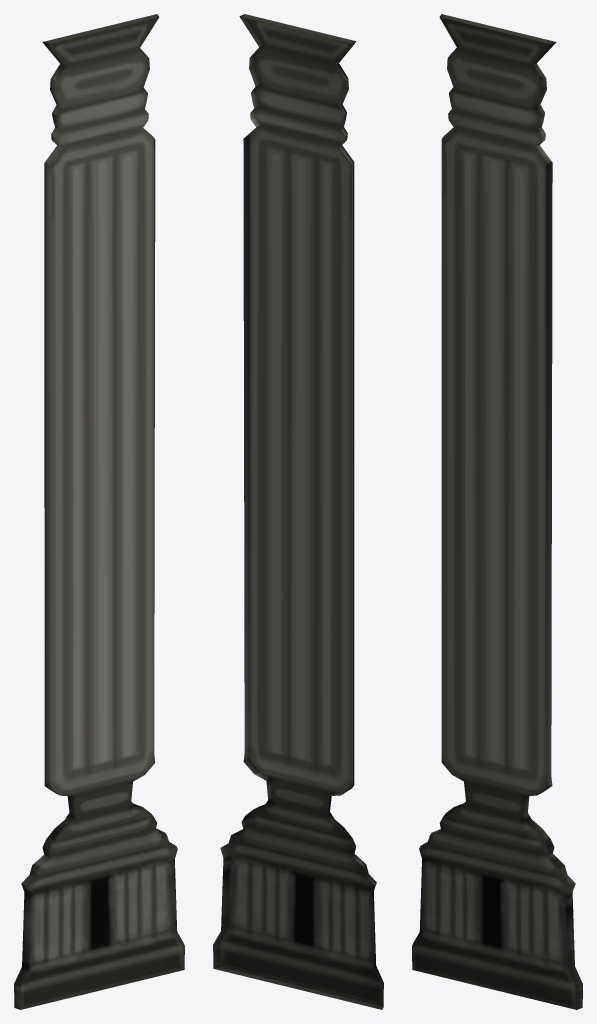
File: CardboardCutout_Collum1_Scaled.fbx
The picture shows the model from 3 angles, left to right: view 1: azimuth 30°, elevation 25°; view 2: azimuth 150°, elevation 25°; view 3: azimuth 330°, elevation 25°; orthographic projection.
Parts seen in each view (by area): view 1: Collumn1; view 2: Collumn1; view 3: Collumn1.
Boxes of the visible parts, x1,y1,x2,y2 form: Collumn1: [14, 14, 184, 1009]; Collumn1: [213, 14, 383, 1009]; Collumn1: [412, 14, 582, 1009].
Bounding box in the file's own units: 46.91 × 254 × 1.82.
